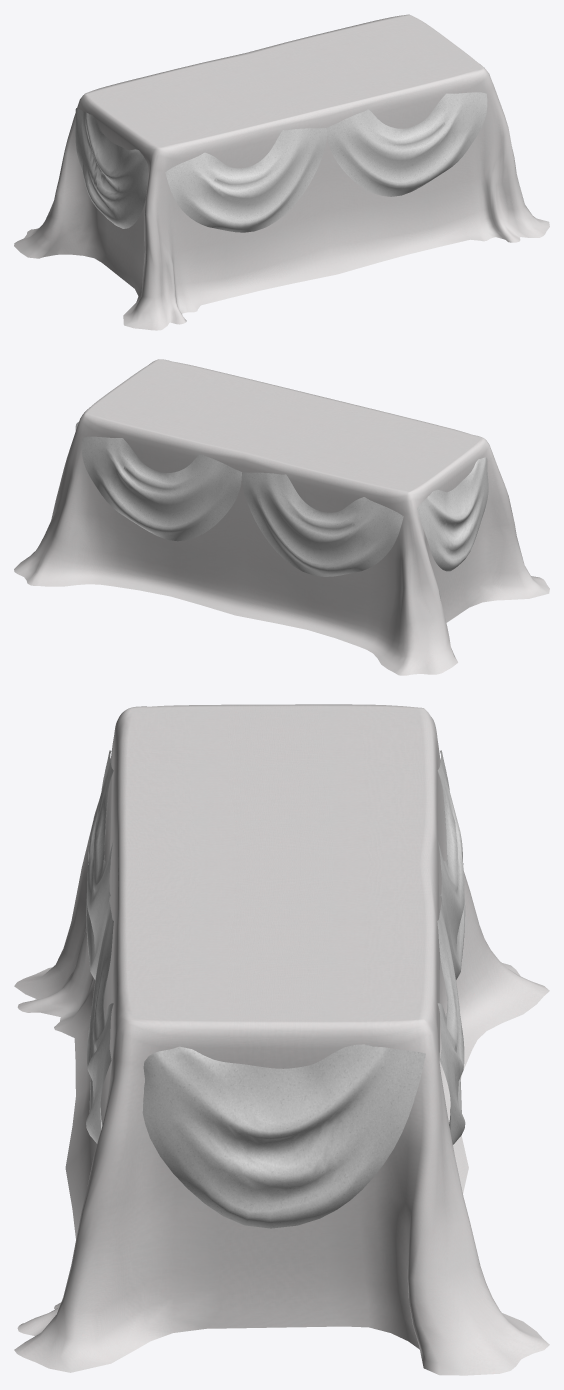
Rendered from EventTable01Cloth03_3.FBX.
3 renders of one model, top to bottom at view 1: azimuth 30°, elevation 25°; view 2: azimuth 150°, elevation 25°; view 3: azimuth 270°, elevation 25°, orthographic. The views are drawn at different scales.
Visible parts, largest first — view 1: EventTable01Cloth03_3; view 2: EventTable01Cloth03_3; view 3: EventTable01Cloth03_3.
Part boxes in pixels (x1,y1,x2,y2): EventTable01Cloth03_3: (14, 14, 549, 330); EventTable01Cloth03_3: (14, 359, 549, 675); EventTable01Cloth03_3: (14, 704, 549, 1375).
Size of what is drawn, in the model's own units: 2.63 by 0.9001 by 1.44.
